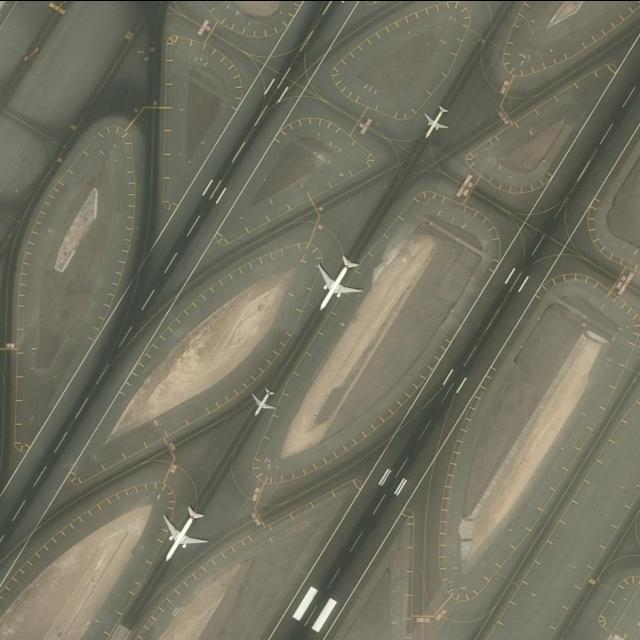Aircraft: (156, 501, 210, 560), (314, 248, 363, 310), (247, 384, 281, 418), (423, 102, 451, 136)
